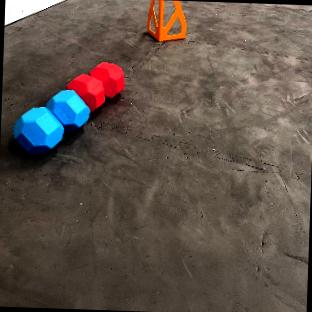V5_BLUE: (13, 90, 89, 154)
V5_RED: (64, 61, 125, 110)
